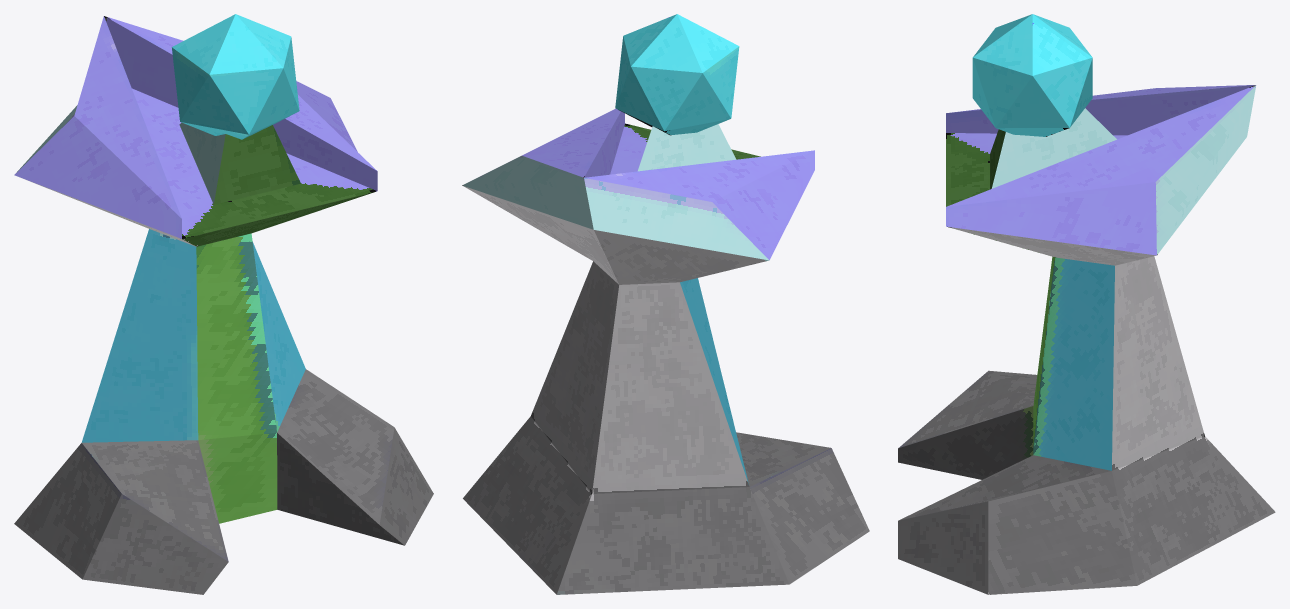
File: slower.glb
3 views of the same model, side by side, from view 1: azimuth 30°, elevation 25°; view 2: azimuth 150°, elevation 25°; view 3: azimuth 270°, elevation 25° (orthographic). The views are drawn at different scales.
Visible parts, largest first — view 1: Cylinder; view 2: Cylinder; view 3: Cylinder.
Part boxes in pixels (x1,y1,x2,y2): Cylinder: (14,14,433,594); Cylinder: (462,14,869,594); Cylinder: (898,14,1275,594).
Size of the model in its own units: 4.93 by 6.8 by 4.67.
1 material, 1 textured.
